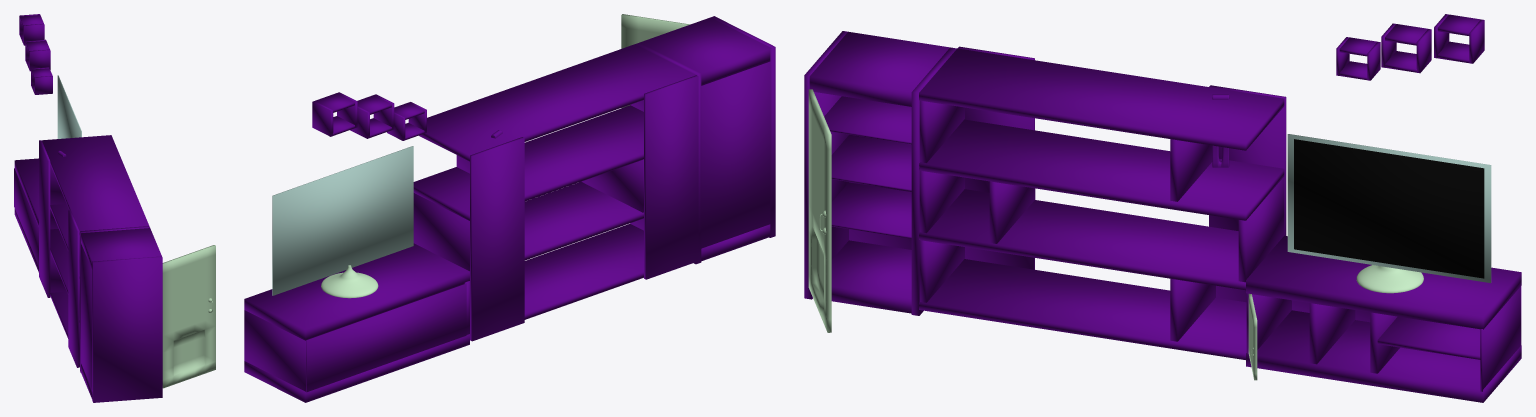
File: UDTarget7.fbx
3 renders of one model, left to right at view 1: azimuth 30°, elevation 25°; view 2: azimuth 150°, elevation 25°; view 3: azimuth 270°, elevation 25°, orthographic. The views are drawn at different scales.
Visible parts, largest first — view 1: tablon_estante_superior, pomo_armario_grande, soporte_pantalla_001, sup_caja_med002, sup_caja_grande003, sup_caja_peqe001; view 2: tablon_estante_superior, soporte_pantalla_001, sup_caja_grande003, sup_caja_med002, pomo_armario_grande, base_televisor, sup_caja_peqe001; view 3: tablon_estante_superior, pantalla_001, pomo_armario_grande, soporte_pantalla_001, sup_caja_med002, sup_caja_grande003, sup_caja_peqe001, base_televisor, pomo_armario_peque_o.
Boxes of the visible parts, x1=… form: tablon_estante_superior: x1=14, y1=135, x2=162, y2=402; pomo_armario_grande: x1=162, y1=245, x2=215, y2=388; soporte_pantalla_001: x1=57, y1=75, x2=81, y2=138; sup_caja_med002: x1=25, y1=39, x2=50, y2=71; sup_caja_grande003: x1=19, y1=14, x2=44, y2=45; sup_caja_peqe001: x1=31, y1=67, x2=52, y2=94; tablon_estante_superior: x1=244, y1=16, x2=775, y2=402; soporte_pantalla_001: x1=272, y1=146, x2=413, y2=295; sup_caja_grande003: x1=312, y1=92, x2=357, y2=136; sup_caja_med002: x1=350, y1=94, x2=394, y2=138; pomo_armario_grande: x1=621, y1=14, x2=690, y2=108; base_televisor: x1=321, y1=265, x2=378, y2=298; sup_caja_peqe001: x1=387, y1=102, x2=426, y2=140; tablon_estante_superior: x1=804, y1=31, x2=1521, y2=402; pantalla_001: x1=1294, y1=139, x2=1484, y2=278; pomo_armario_grande: x1=808, y1=89, x2=831, y2=332; soporte_pantalla_001: x1=1287, y1=134, x2=1491, y2=282; sup_caja_med002: x1=1381, y1=23, x2=1431, y2=73; sup_caja_grande003: x1=1434, y1=14, x2=1484, y2=63; sup_caja_peqe001: x1=1336, y1=37, x2=1380, y2=80; base_televisor: x1=1356, y1=265, x2=1423, y2=293; pomo_armario_peque_o: x1=1248, y1=293, x2=1257, y2=380.
Size of the model in its own units: 7.12 by 7.41 by 14.47.
